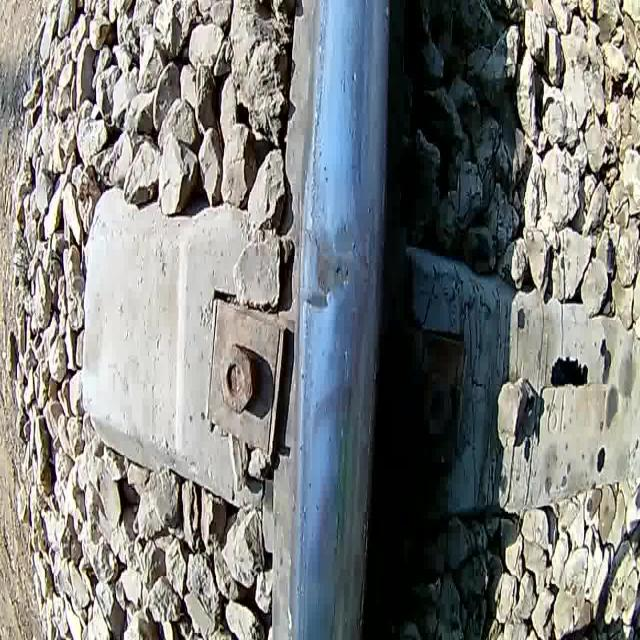Squats: (289, 196, 392, 339)
